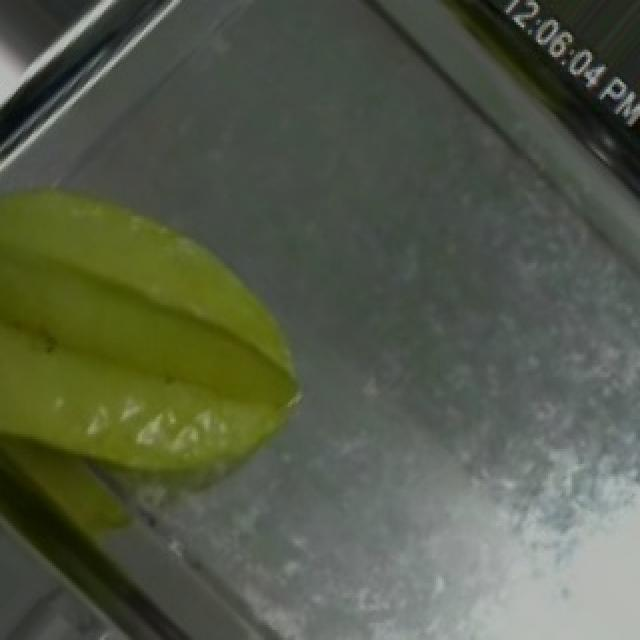fruit: (0, 131, 362, 588)
